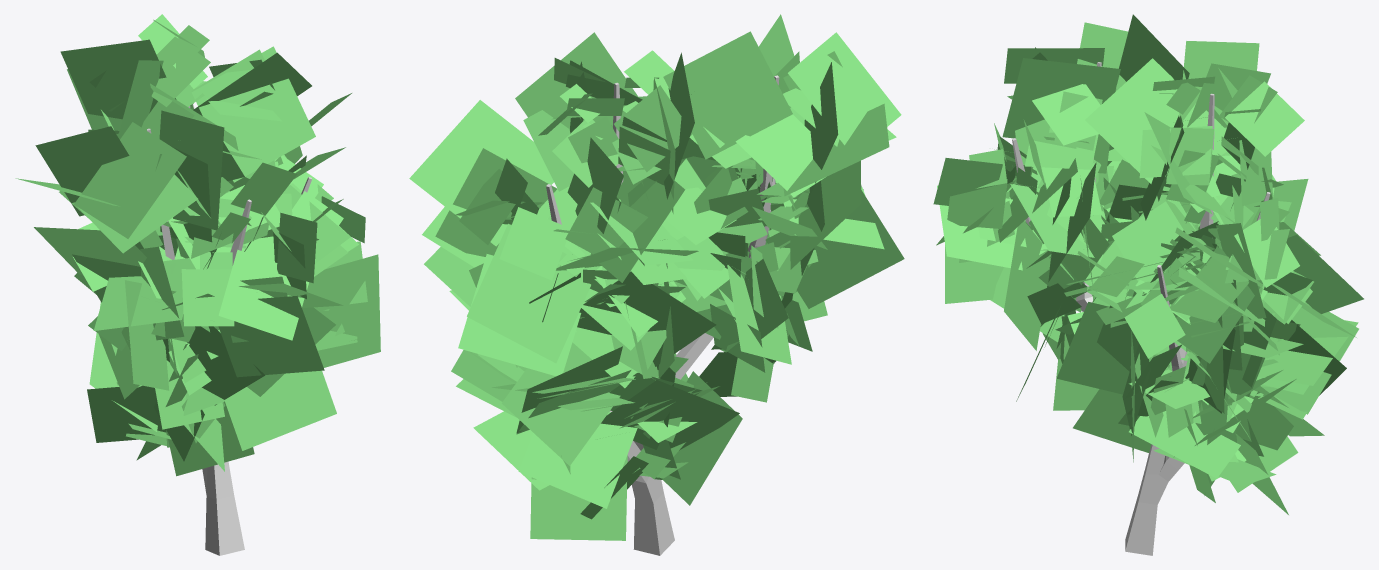
Rendered from tree03.fbx.
The picture shows the model from 3 angles, left to right: view 1: azimuth 30°, elevation 25°; view 2: azimuth 150°, elevation 25°; view 3: azimuth 270°, elevation 25°; orthographic projection. The views are drawn at different scales.
Visible parts, largest first — view 1: Vert.022|Plane.007|Dupli|56, Vert.022|Plane.007|Dupli|211, Vert.022|Plane.007|Dupli|160, Vert.022|Plane.007|Dupli|31, Vert.022|Plane.007|Dupli|64, Vert.022|Plane.007|Dupli|215, Vert.022|Plane.007|Dupli|146, Vert.022|Plane.007|Dupli|54, Vert.022|Plane.007|Dupli|152, Vert.022, Vert.022|Plane.007|Dupli|4, Vert.022|Plane.007|Dupli|82 (+38 smaller); view 2: Vert.022|Plane.007|Dupli|57, Vert.022|Plane.007|Dupli|128, Vert.022|Plane.007|Dupli|74, Vert.022|Plane.007|Dupli|216, Vert.022|Plane.007|Dupli|142, Vert.022|Plane.007|Dupli|83, Vert.022|Plane.007|Dupli|56, Vert.022|Plane.007|Dupli|5, Vert.022, Vert.022|Plane.007|Dupli|144, Vert.022|Plane.007|Dupli|97, Vert.022|Plane.007|Dupli|75 (+56 smaller); view 3: Vert.022|Plane.007|Dupli|217, Vert.022|Plane.007|Dupli|160, Vert.022|Plane.007|Dupli|72, Vert.022, Vert.022|Plane.007|Dupli|58, Vert.022|Plane.007|Dupli|215, Vert.022|Plane.007|Dupli|85, Vert.022|Plane.007|Dupli|73, Vert.022|Plane.007|Dupli|23, Vert.022|Plane.007|Dupli|10, Vert.022|Plane.007|Dupli|128, Vert.022|Plane.007|Dupli|207 (+61 smaller).
Boxes of the visible parts, x1,y1,x2,y2 form: Vert.022|Plane.007|Dupli|56: [74, 101, 194, 238]; Vert.022|Plane.007|Dupli|211: [101, 46, 315, 182]; Vert.022|Plane.007|Dupli|160: [159, 110, 317, 283]; Vert.022|Plane.007|Dupli|31: [111, 344, 336, 450]; Vert.022|Plane.007|Dupli|64: [306, 254, 380, 367]; Vert.022|Plane.007|Dupli|215: [60, 39, 274, 119]; Vert.022|Plane.007|Dupli|146: [159, 234, 324, 377]; Vert.022|Plane.007|Dupli|54: [35, 126, 244, 216]; Vert.022|Plane.007|Dupli|152: [174, 247, 308, 340]; Vert.022: [147, 104, 311, 555]; Vert.022|Plane.007|Dupli|4: [93, 258, 195, 330]; Vert.022|Plane.007|Dupli|82: [87, 385, 166, 442]; Vert.022|Plane.007|Dupli|57: [663, 31, 842, 159]; Vert.022|Plane.007|Dupli|128: [467, 223, 590, 363]; Vert.022|Plane.007|Dupli|74: [409, 100, 553, 246]; Vert.022|Plane.007|Dupli|216: [515, 32, 693, 172]; Vert.022|Plane.007|Dupli|142: [435, 148, 647, 256]; Vert.022|Plane.007|Dupli|83: [518, 411, 637, 508]; Vert.022|Plane.007|Dupli|56: [703, 32, 901, 147]; Vert.022|Plane.007|Dupli|5: [701, 176, 904, 308]; Vert.022: [546, 75, 779, 555]; Vert.022|Plane.007|Dupli|144: [459, 169, 685, 282]; Vert.022|Plane.007|Dupli|97: [501, 342, 620, 465]; Vert.022|Plane.007|Dupli|75: [530, 455, 627, 540]; Vert.022|Plane.007|Dupli|217: [1085, 58, 1304, 183]; Vert.022|Plane.007|Dupli|160: [933, 58, 1120, 205]; Vert.022|Plane.007|Dupli|72: [1112, 199, 1210, 358]; Vert.022: [1012, 62, 1270, 555]; Vert.022|Plane.007|Dupli|58: [1056, 302, 1264, 397]; Vert.022|Plane.007|Dupli|215: [1166, 41, 1259, 185]; Vert.022|Plane.007|Dupli|85: [1073, 389, 1293, 452]; Vert.022|Plane.007|Dupli|73: [1089, 253, 1248, 322]; Vert.022|Plane.007|Dupli|23: [1004, 221, 1051, 350]; Vert.022|Plane.007|Dupli|10: [1129, 411, 1240, 478]; Vert.022|Plane.007|Dupli|128: [1180, 235, 1363, 313]; Vert.022|Plane.007|Dupli|207: [1166, 63, 1270, 203].
Bounding box in the file's own units: 317 × 401 × 317.
